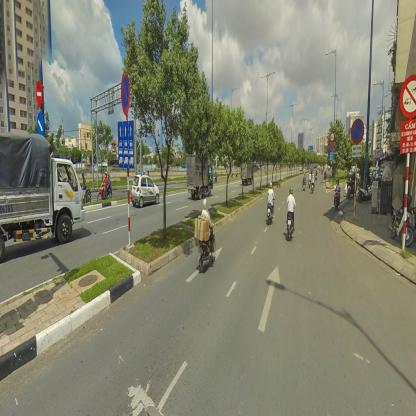Cam con lai: (399, 72, 416, 116)
Cam dung va do: (120, 70, 130, 114), (351, 117, 365, 143), (329, 141, 334, 149)
Cam nguoc chieu: (36, 78, 42, 108)
Gioi han toc do: (330, 132, 334, 140)
Hieu lenh: (37, 110, 44, 139)
